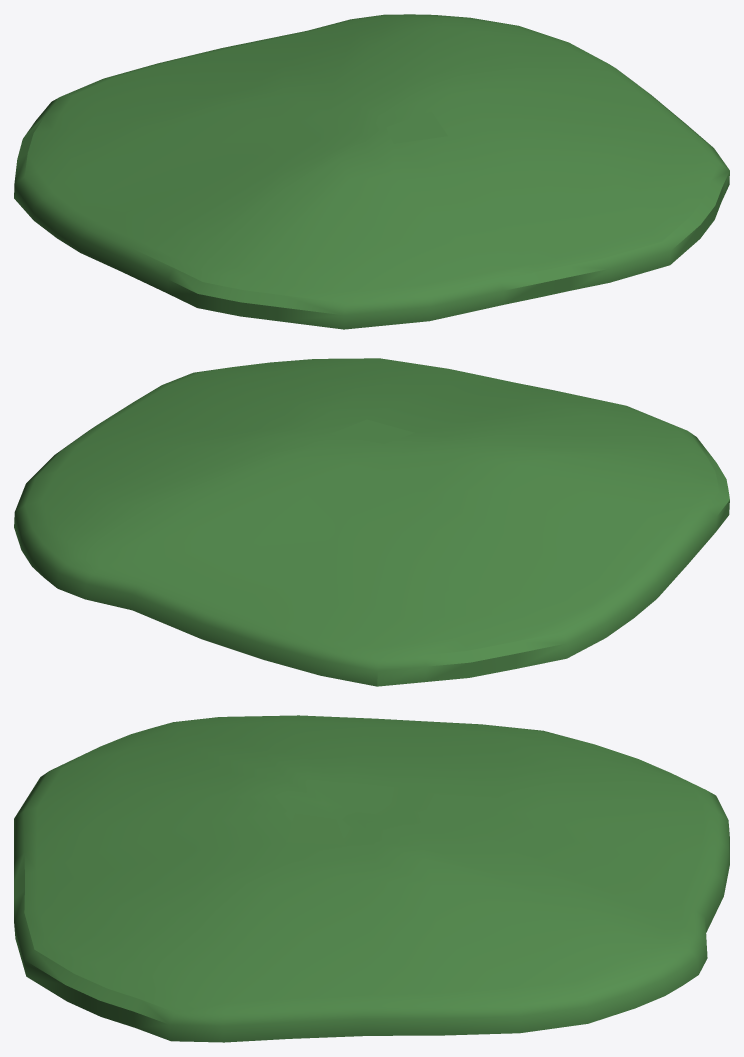
Rendered from SM_SeaweedGround.fbx.
The picture shows the model from 3 angles, top to bottom: view 1: azimuth 30°, elevation 25°; view 2: azimuth 150°, elevation 25°; view 3: azimuth 270°, elevation 25°; orthographic projection. The views are drawn at different scales.
Visible parts, largest first — view 1: seaweed; view 2: seaweed; view 3: seaweed.
Boxes of the visible parts, box(x1,y1,x2,y2) form: seaweed: box(14, 14, 729, 329); seaweed: box(14, 358, 729, 686); seaweed: box(14, 715, 729, 1042).
Size of the model in its own units: 778 by 100 by 766.
